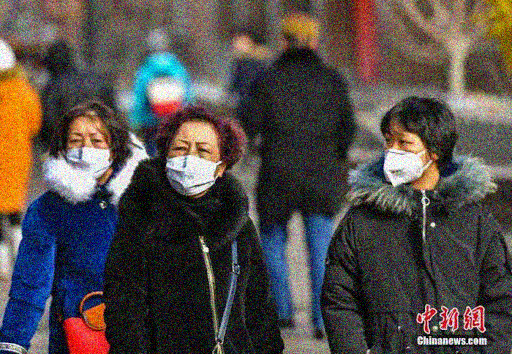with_mask: (166, 136, 222, 196), (383, 126, 430, 184), (64, 129, 110, 174)
